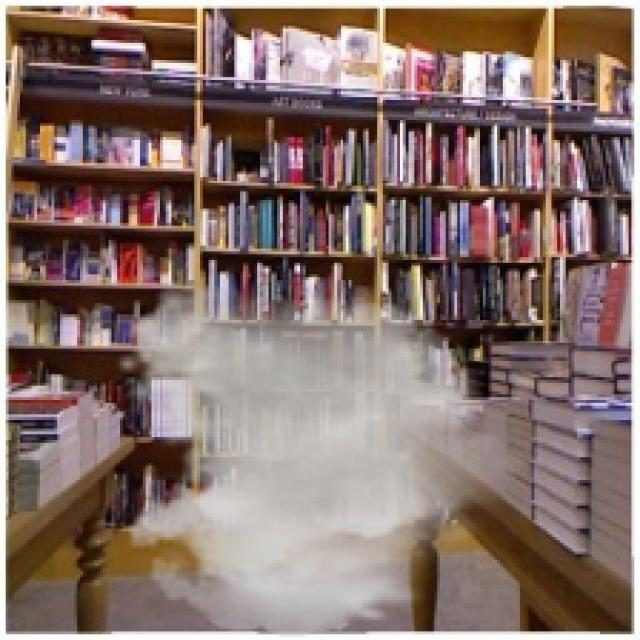smoke: (111, 283, 534, 637)
